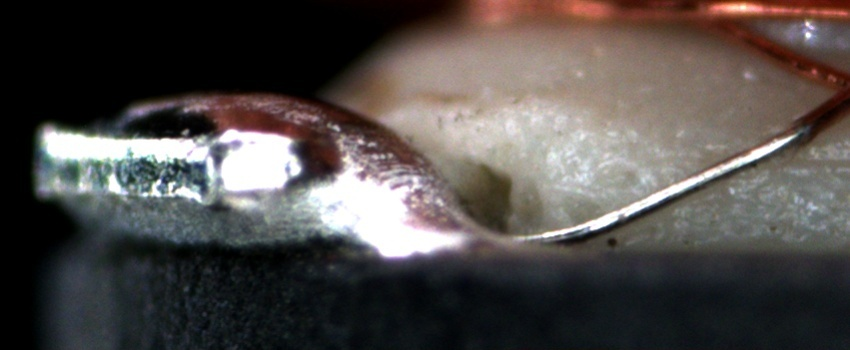CL: (808, 55, 850, 123)
DL: (707, 137, 849, 192)
TS: (505, 126, 805, 245)
